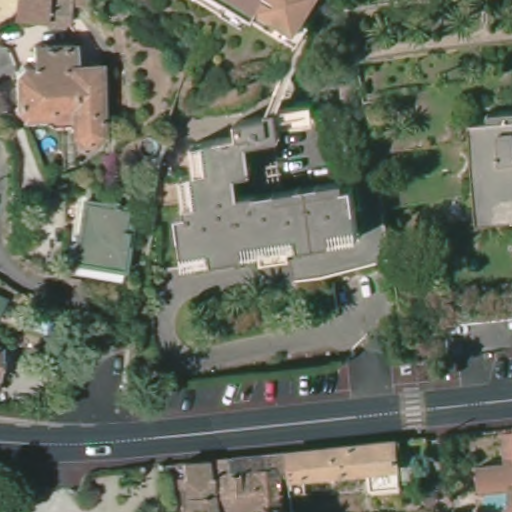pool: (36, 134, 63, 159)
